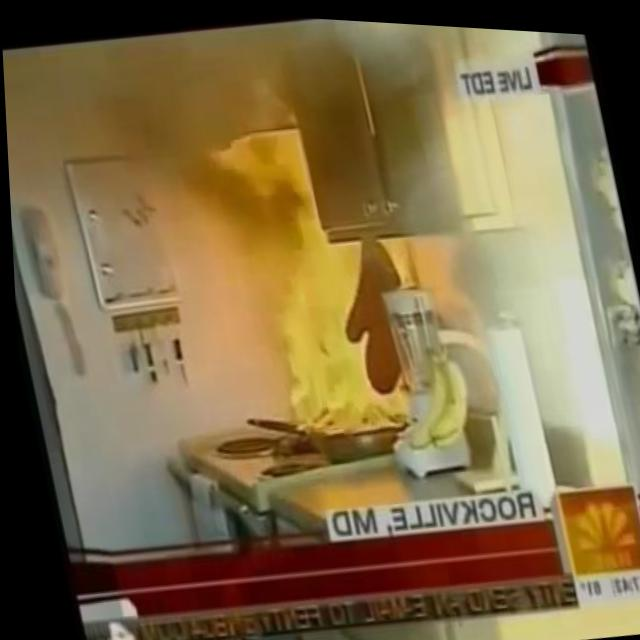fire: (211, 96, 437, 448)
